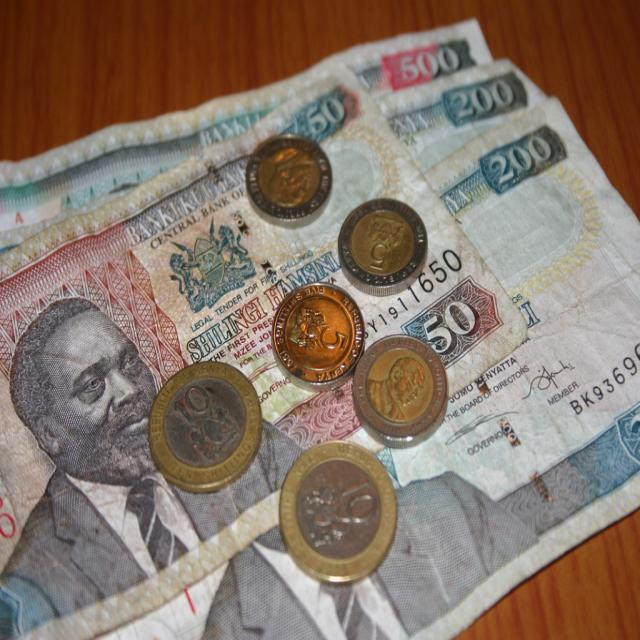Coin: (275, 447, 393, 584), (150, 362, 263, 490), (351, 330, 449, 448), (269, 279, 365, 393), (338, 195, 428, 297), (244, 131, 337, 226)
